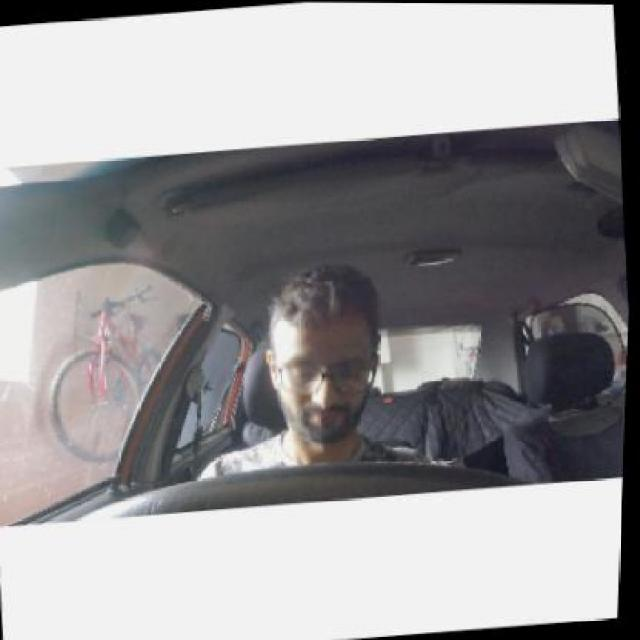drowsy: (266, 254, 394, 448)
